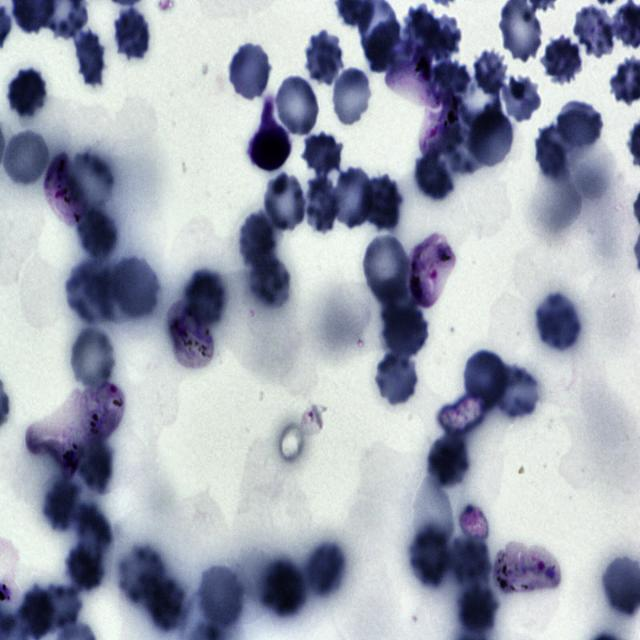leukocyte: (248, 94, 290, 176)
red blood cell: (361, 232, 412, 304), (272, 74, 322, 140), (69, 323, 116, 393), (404, 4, 462, 60), (64, 260, 114, 324), (468, 106, 516, 171), (534, 291, 584, 353), (2, 128, 50, 189), (110, 256, 158, 317), (379, 305, 430, 362), (262, 171, 308, 234), (198, 563, 242, 627), (330, 66, 374, 129), (331, 167, 375, 230), (491, 363, 540, 419), (426, 430, 472, 489), (555, 99, 604, 154), (464, 349, 508, 410), (374, 350, 420, 408), (119, 545, 165, 603), (228, 42, 272, 102), (262, 558, 306, 618), (361, 172, 403, 233), (68, 151, 112, 209), (304, 31, 346, 88), (70, 25, 108, 88), (248, 251, 290, 308), (302, 176, 340, 237), (410, 530, 450, 587), (6, 67, 49, 120), (34, 584, 82, 631), (184, 269, 225, 323), (112, 7, 152, 62), (574, 5, 614, 58), (364, 17, 402, 72), (447, 539, 490, 587), (536, 123, 572, 180), (79, 207, 117, 261), (66, 542, 106, 593), (146, 576, 183, 631), (301, 130, 343, 178), (42, 480, 80, 533), (498, 78, 542, 123), (458, 585, 498, 634), (415, 150, 453, 201), (74, 503, 112, 554), (240, 213, 276, 266), (308, 543, 344, 595), (471, 47, 509, 96), (79, 440, 112, 493), (543, 38, 580, 84), (432, 58, 471, 97)
trophozoite: (26, 388, 99, 478), (407, 231, 456, 312), (386, 42, 444, 108), (493, 542, 561, 596), (167, 302, 216, 371), (44, 151, 88, 226), (77, 380, 125, 446), (419, 91, 460, 158)
